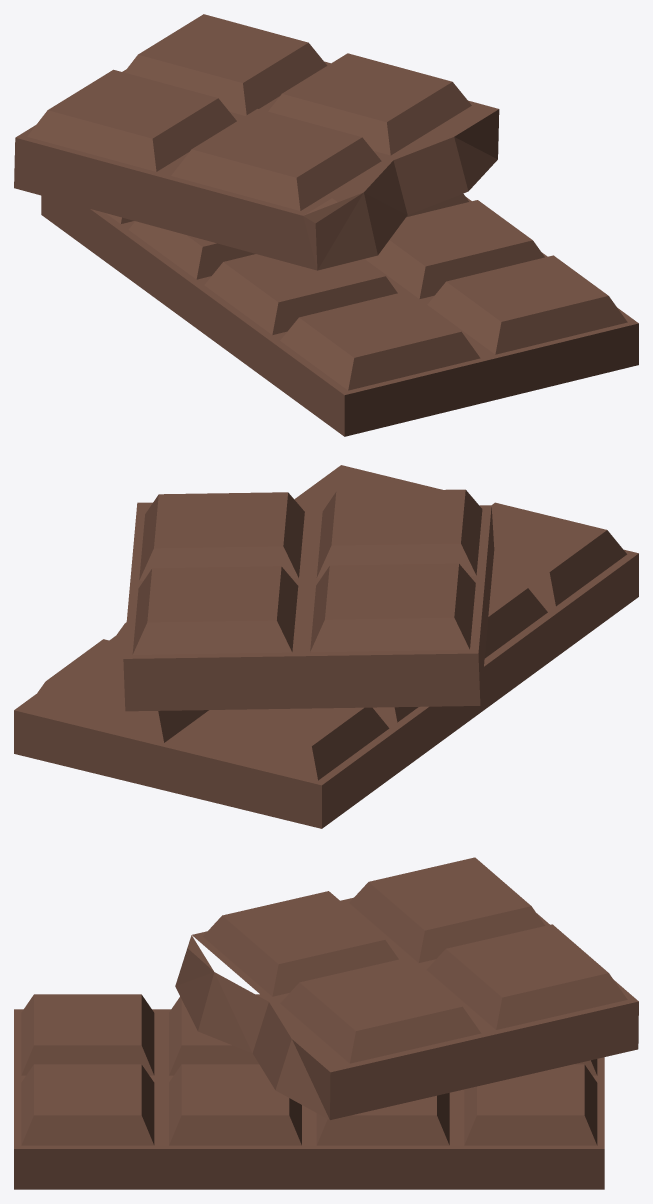
Rendered from Chocolate Bar Squares.glb.
3 renders of one model, top to bottom at view 1: azimuth 30°, elevation 25°; view 2: azimuth 150°, elevation 25°; view 3: azimuth 270°, elevation 25°, orthographic. The views are drawn at different scales.
Visible parts, largest first — view 1: Node; view 2: Node; view 3: Node.
Boxes of the visible parts, x1=… form: Node: x1=14, y1=14, x2=638, y2=436; Node: x1=14, y1=465, x2=638, y2=828; Node: x1=14, y1=857, x2=638, y2=1189.
Bounding box in the file's own units: 0.5112 × 0.2019 × 0.6985.
